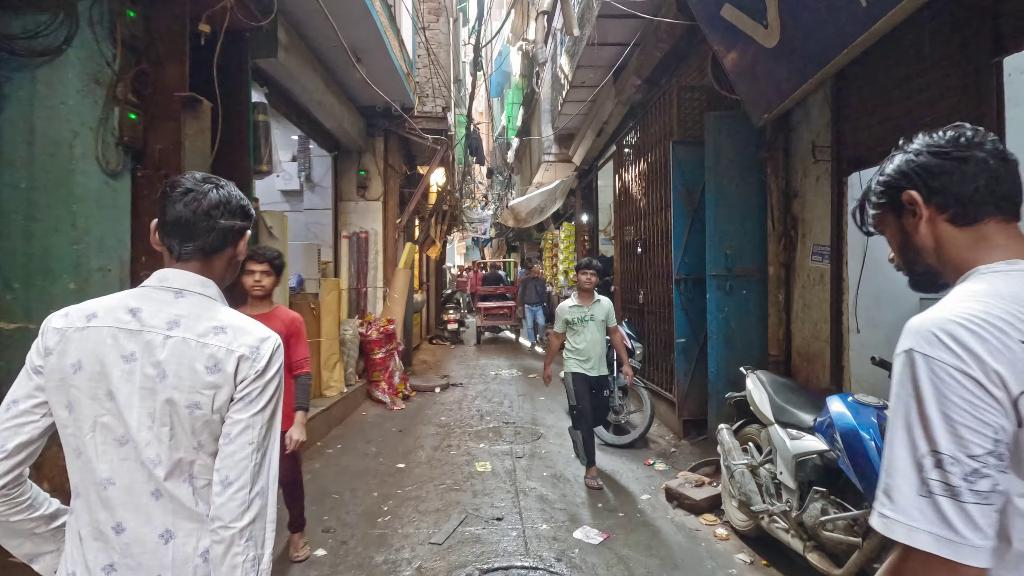garbage: (573, 525, 611, 545), (489, 367, 524, 377), (476, 460, 493, 473), (653, 459, 671, 471)
